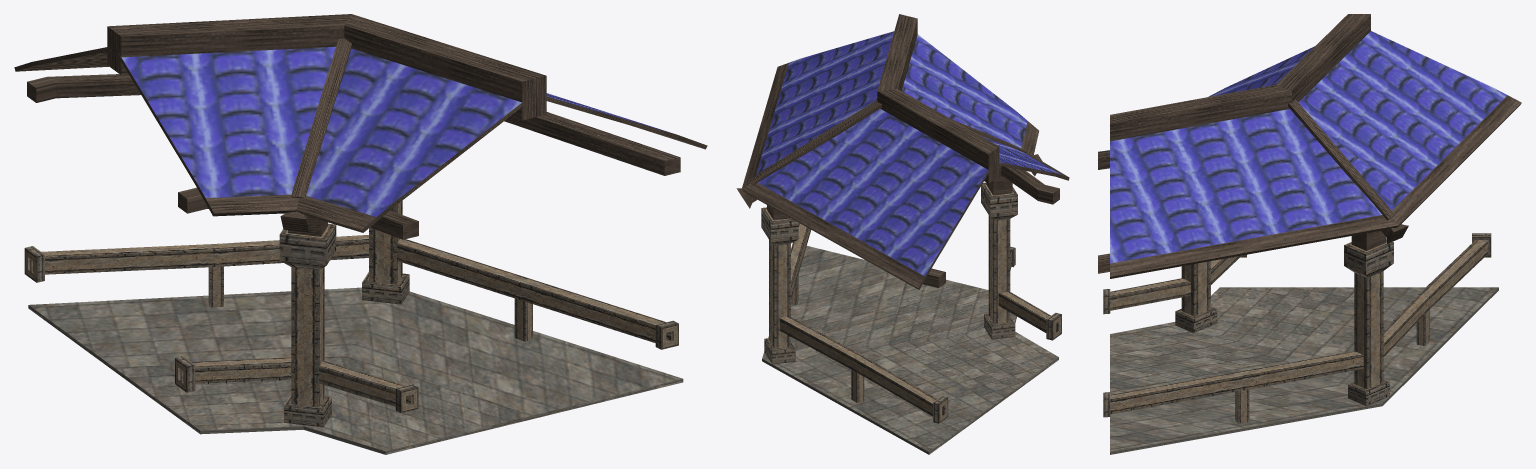
Rendered from corredorjpcurva-b.fbx.
3 views of the same model, side by side, from view 1: azimuth 30°, elevation 25°; view 2: azimuth 150°, elevation 25°; view 3: azimuth 270°, elevation 25° (orthographic). The views are drawn at different scales.
Visible parts, largest first — view 1: Cube.001; view 2: Cube.001; view 3: Cube.001.
Boxes of the visible parts, bbox=[...] form: Cube.001: bbox=[14, 14, 707, 454]; Cube.001: bbox=[736, 14, 1069, 454]; Cube.001: bbox=[1098, 14, 1521, 454].
Size of the model in its own units: 4.21 by 3.08 by 4.24.
